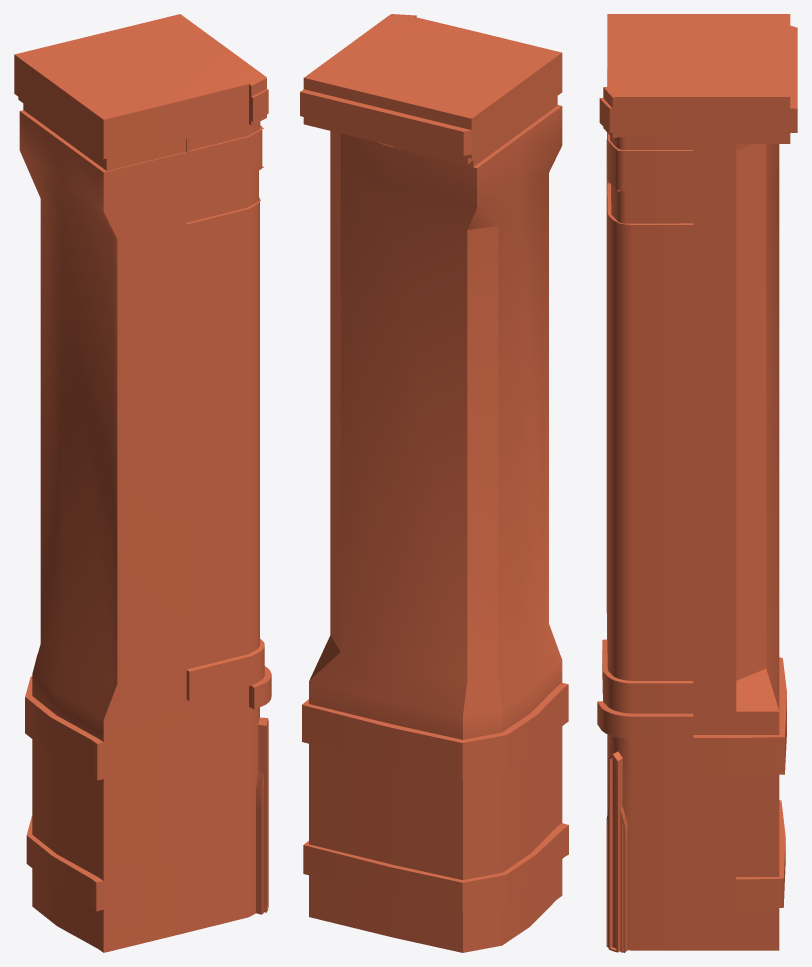
File: AngleMur_Fenetre.fbx
3 views of the same model, side by side, from view 1: azimuth 30°, elevation 25°; view 2: azimuth 150°, elevation 25°; view 3: azimuth 270°, elevation 25° (orthographic). The views are drawn at different scales.
Parts seen in each view (by area): view 1: Angel_MurFenetre; view 2: Angel_MurFenetre; view 3: Angel_MurFenetre.
Part boxes in pixels (x1,y1,x2,y2): Angel_MurFenetre: [14, 14, 271, 952]; Angel_MurFenetre: [300, 14, 568, 952]; Angel_MurFenetre: [597, 14, 797, 952].
Size of the model in its own units: 47.75 by 200 by 42.61.
